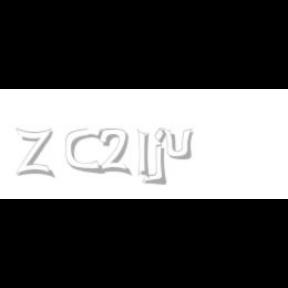2: (96, 128, 130, 176)
C: (66, 128, 102, 174)
I: (138, 128, 150, 180)
Z: (16, 128, 52, 178)
j: (152, 128, 180, 186)
u: (162, 128, 196, 160)
